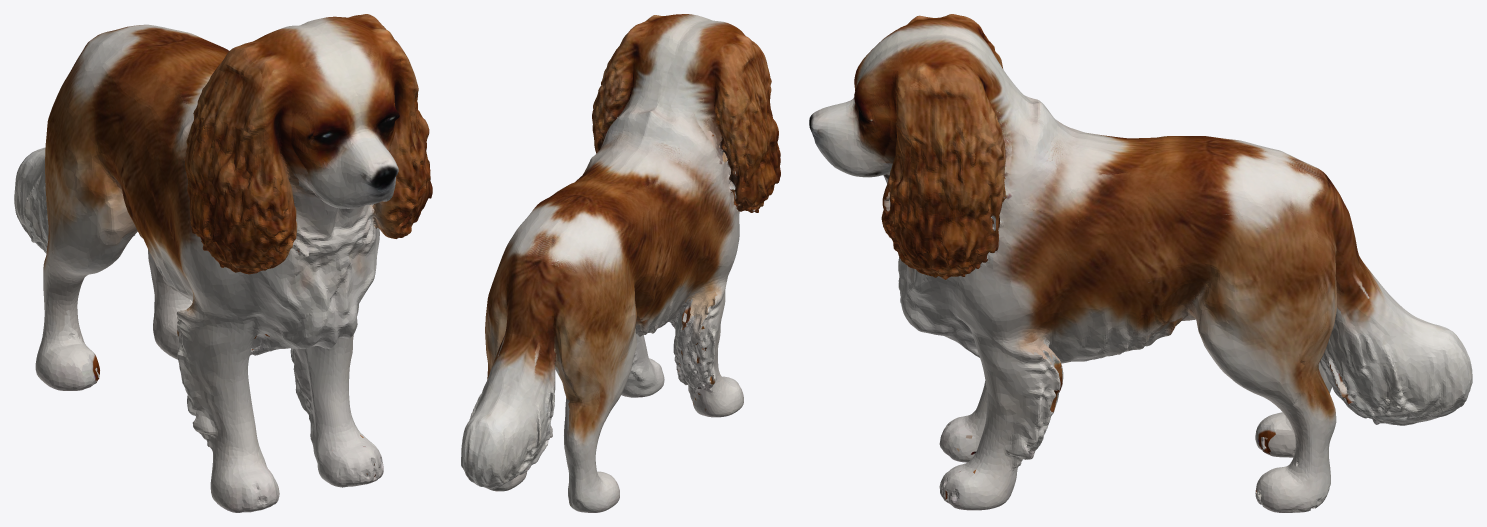
The model's file is photoreal_cavalier_dog.glb.
3 renders of one model, left to right at view 1: azimuth 30°, elevation 25°; view 2: azimuth 150°, elevation 25°; view 3: azimuth 270°, elevation 25°, orthographic. The views are drawn at different scales.
Visible parts, largest first — view 1: tmp0_2hfpmb.ply; view 2: tmp0_2hfpmb.ply; view 3: tmp0_2hfpmb.ply.
Part boxes in pixels (x1=…): tmp0_2hfpmb.ply: x1=14, y1=14, x2=432, y2=512; tmp0_2hfpmb.ply: x1=461, y1=14, x2=780, y2=512; tmp0_2hfpmb.ply: x1=809, y1=14, x2=1472, y2=512.
Bounding box in the file's own units: 0.2025 × 0.4129 × 0.56.
Materials: 1 (1 with a texture image).
